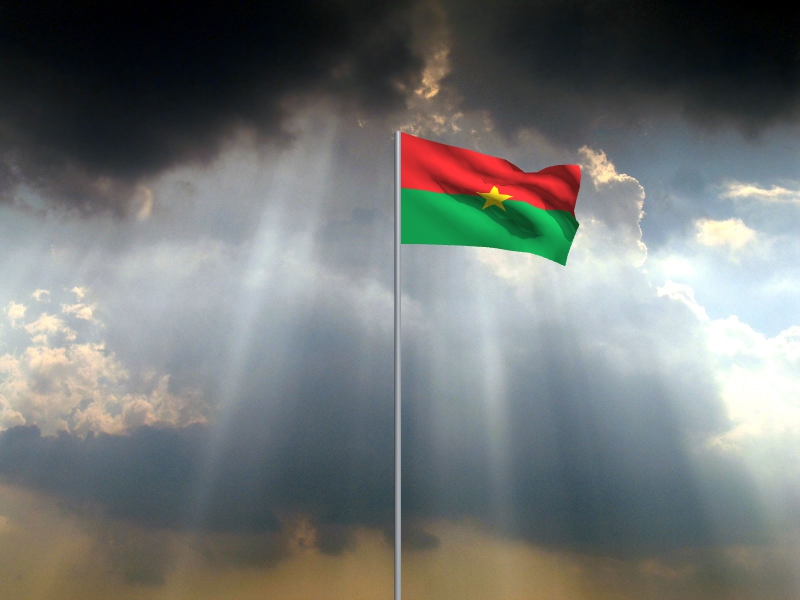bf: (402, 133, 583, 268)
